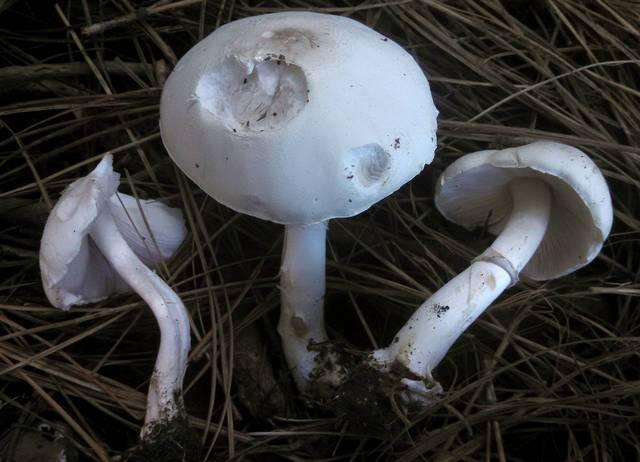Non-edible Mushroom: (157, 9, 440, 400), (365, 138, 614, 408), (37, 151, 194, 453)
